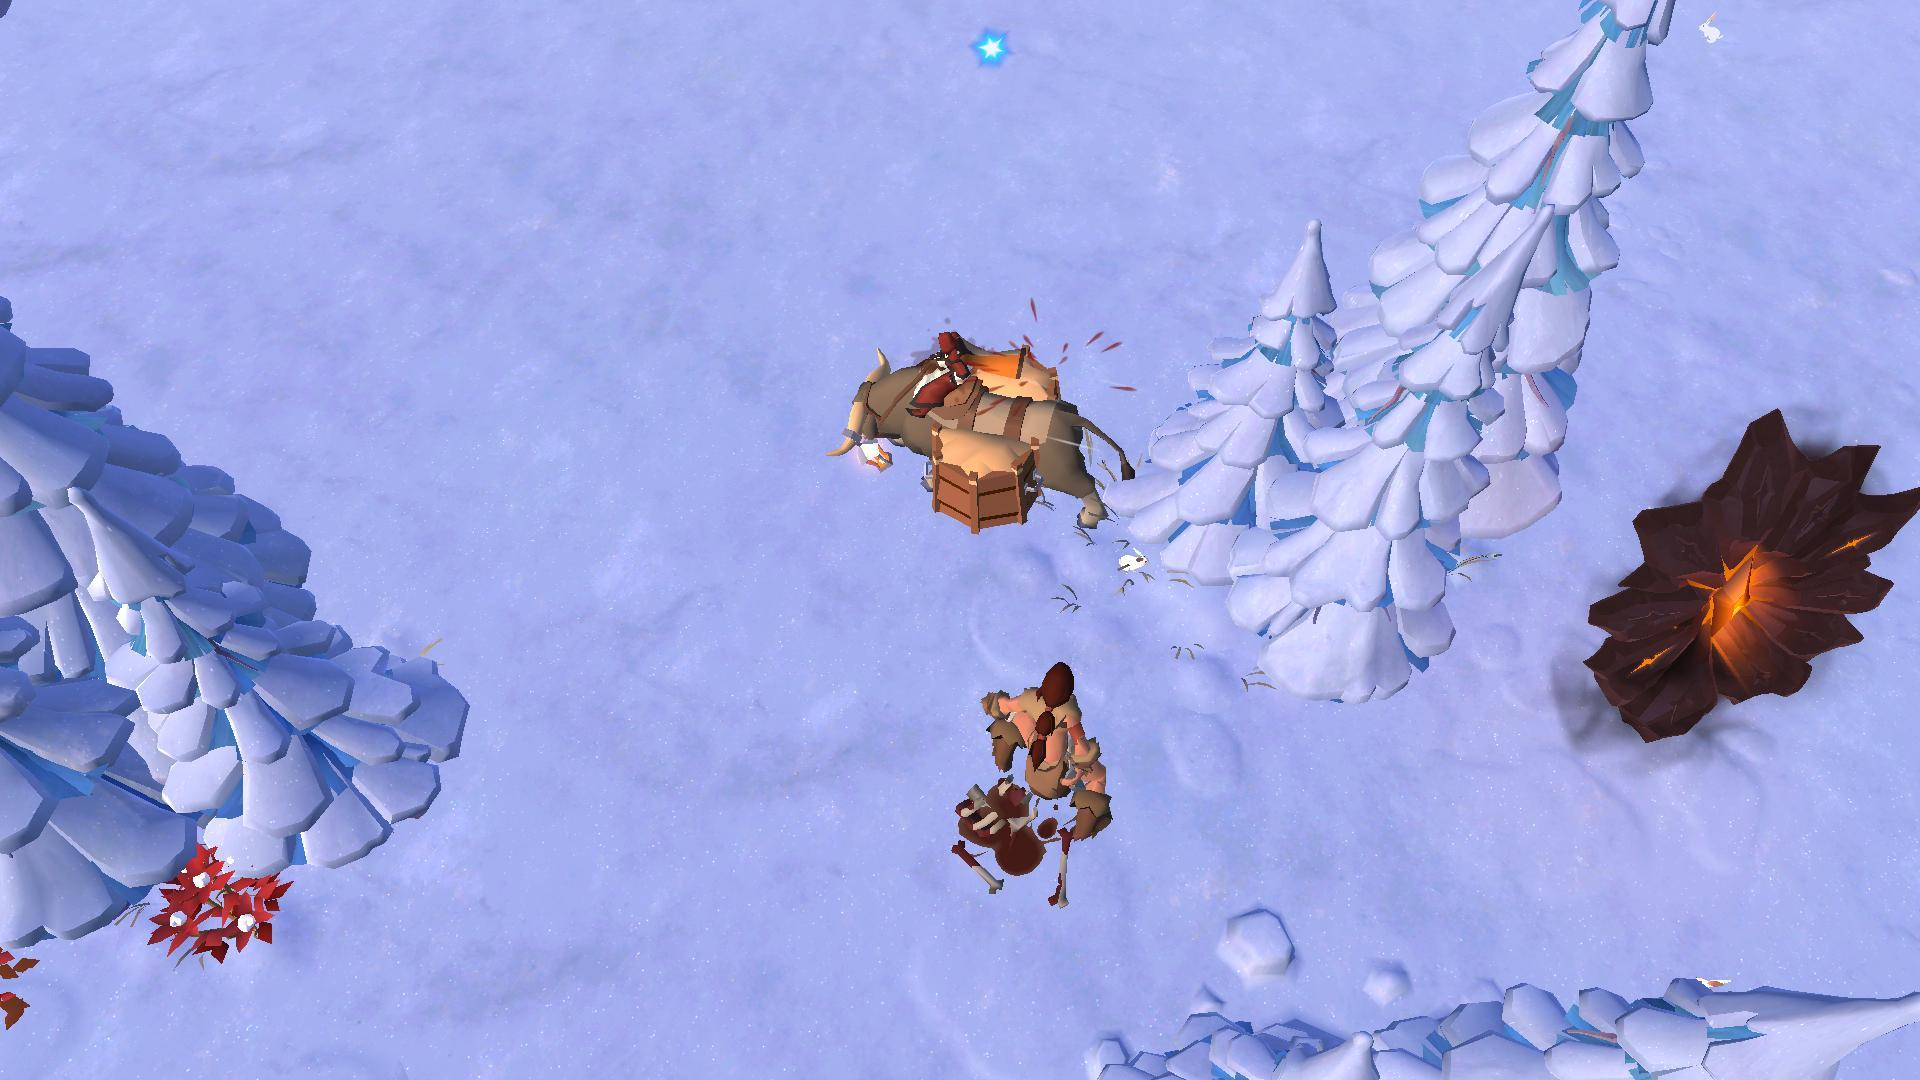fiber_t5: (150, 843, 290, 968)
